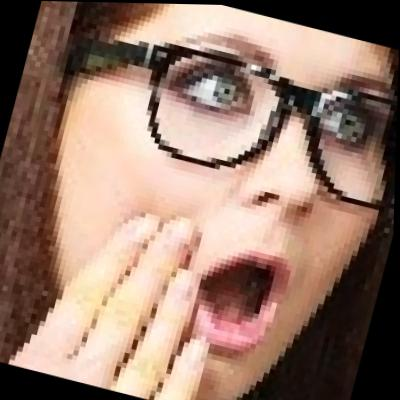surprise: (14, 0, 400, 400)
